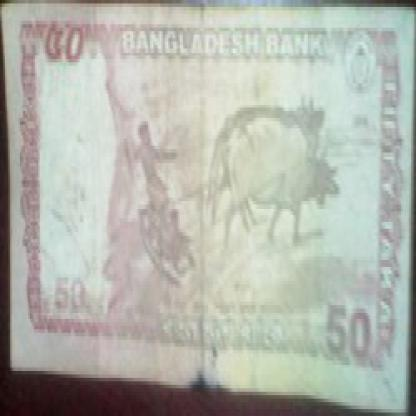Fifty taka: (332, 305, 390, 374), (38, 14, 93, 80)
